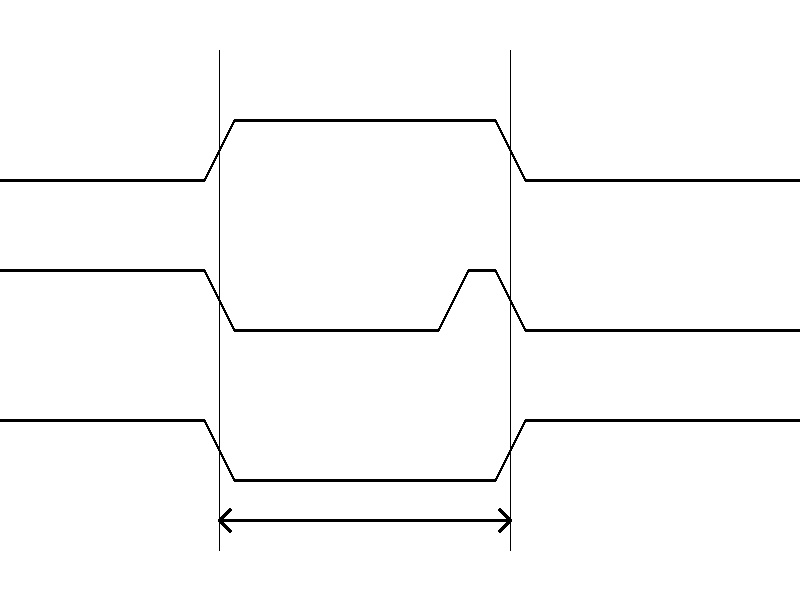double_arrow: (219, 505, 510, 535)
